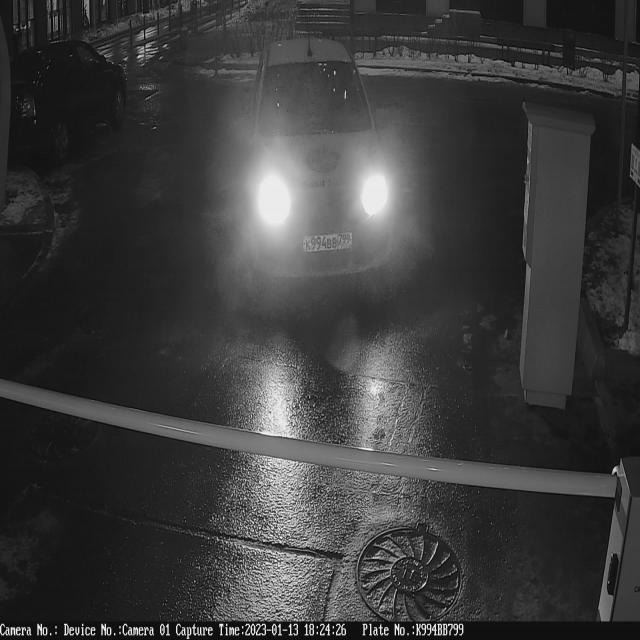car-plate-numbers: (303, 230, 355, 261)
